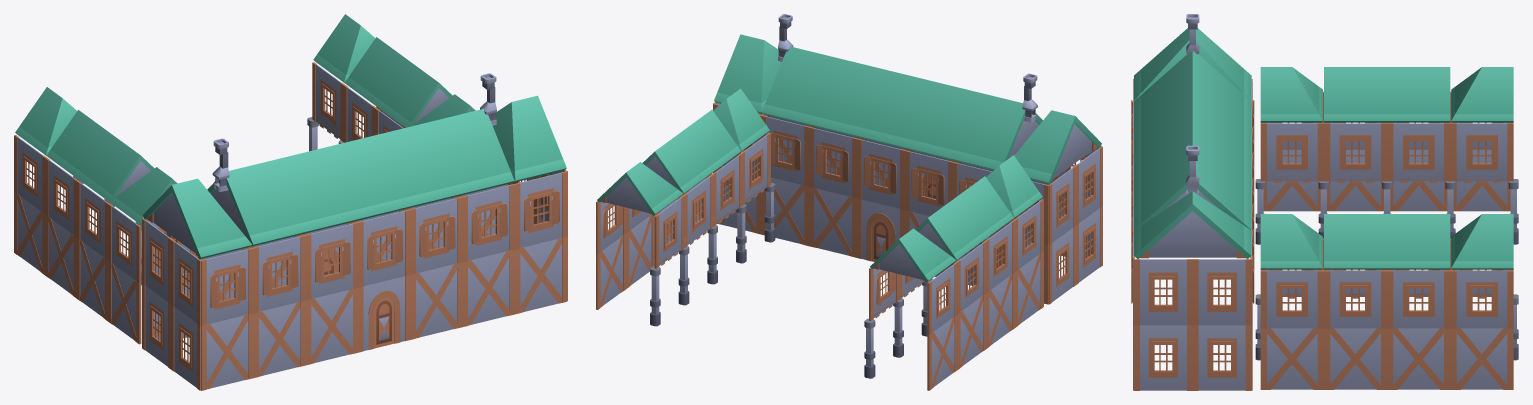
File: london_bld_exchange.glb
The picture shows the model from 3 angles, left to right: view 1: azimuth 30°, elevation 25°; view 2: azimuth 150°, elevation 25°; view 3: azimuth 270°, elevation 25°; orthographic projection. The views are drawn at different scales.
Visible parts, largest first — view 1: wall-window-shutters (×17), roof-gable (×9), wall-detail-cross (×10), roof-gable-end (×6), wall-door, door, chimney-base_-6.9; view 2: wall-window-shutters (×20), roof-gable (×9), wall-detail-cross (×9), roof-gable-end (×6), pillar-stone (×7), wall-door, door; view 3: wall-window-shutters (×12), roof-gable (×9), wall-detail-cross (×8), roof-gable-end (×6), pillar-stone (×6).
Part boxes in pixels (x1=…): wall-window-shutters (×17): x1=14, y1=62, x2=567, y2=390; roof-gable (×9): x1=46, y1=37, x2=514, y2=246; wall-detail-cross (×10): x1=14, y1=192, x2=567, y2=390; roof-gable-end (×6): x1=15, y1=14, x2=566, y2=259; wall-door: x1=358, y1=275, x2=410, y2=352; door: x1=374, y1=297, x2=394, y2=348; chimney-base_-6.9: x1=212, y1=152, x2=229, y2=191; wall-window-shutters (×20): x1=596, y1=115, x2=1102, y2=335; roof-gable (×9): x1=642, y1=46, x2=1042, y2=260; wall-detail-cross (×9): x1=596, y1=165, x2=1043, y2=390; roof-gable-end (×6): x1=597, y1=34, x2=1101, y2=282; pillar-stone (×7): x1=650, y1=182, x2=903, y2=378; wall-door: x1=857, y1=198, x2=904, y2=261; door: x1=871, y1=219, x2=890, y2=261; wall-window-shutters (×12): x1=1134, y1=123, x2=1513, y2=390; roof-gable (×9): x1=1134, y1=51, x2=1450, y2=269; wall-detail-cross (×8): x1=1260, y1=149, x2=1513, y2=389; roof-gable-end (×6): x1=1134, y1=28, x2=1513, y2=269; pillar-stone (×6): x1=1255, y1=179, x2=1518, y2=360.
Size of the model in its own units: 19 by 10.63 by 17.15.
9 materials, 9 textured.
